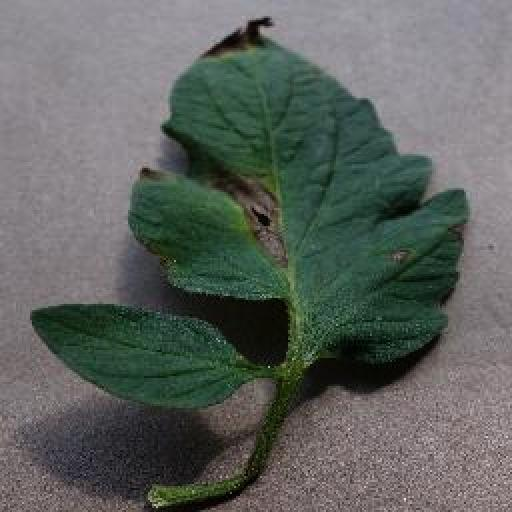disease_tomato: (135, 14, 472, 372)
